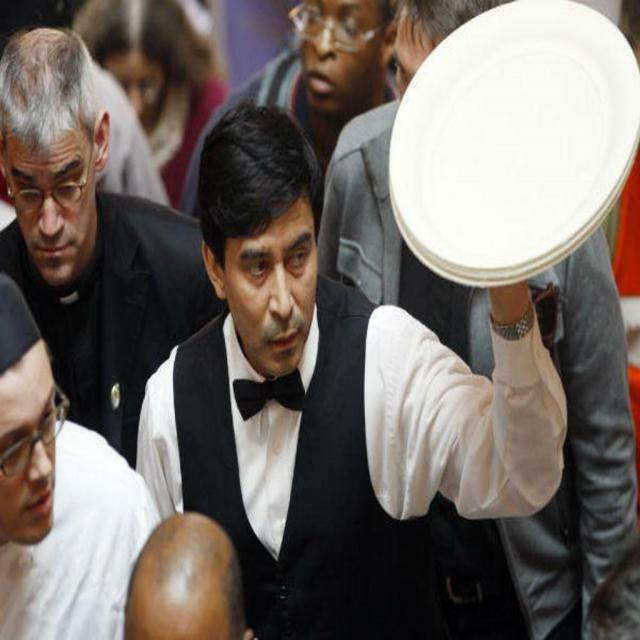nomask: (228, 184, 318, 378), (3, 120, 98, 281), (5, 339, 60, 544), (300, 6, 382, 118)
